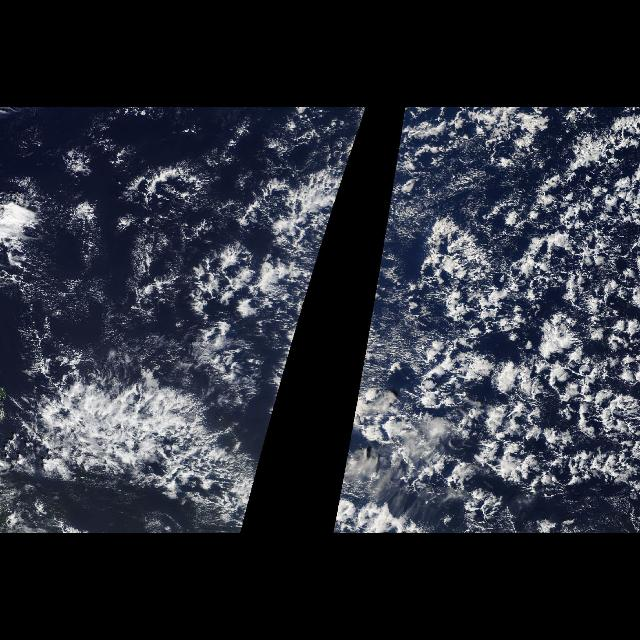Fish: (382, 128, 640, 492)
Gravel: (406, 115, 640, 512)
